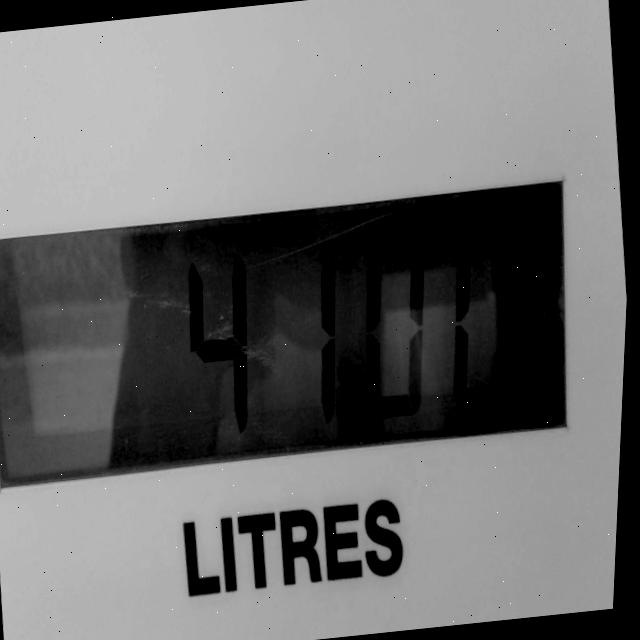.: (343, 391, 366, 425)
0: (442, 225, 529, 415), (353, 243, 442, 426)
1: (308, 248, 352, 435)
4: (180, 257, 264, 447)
